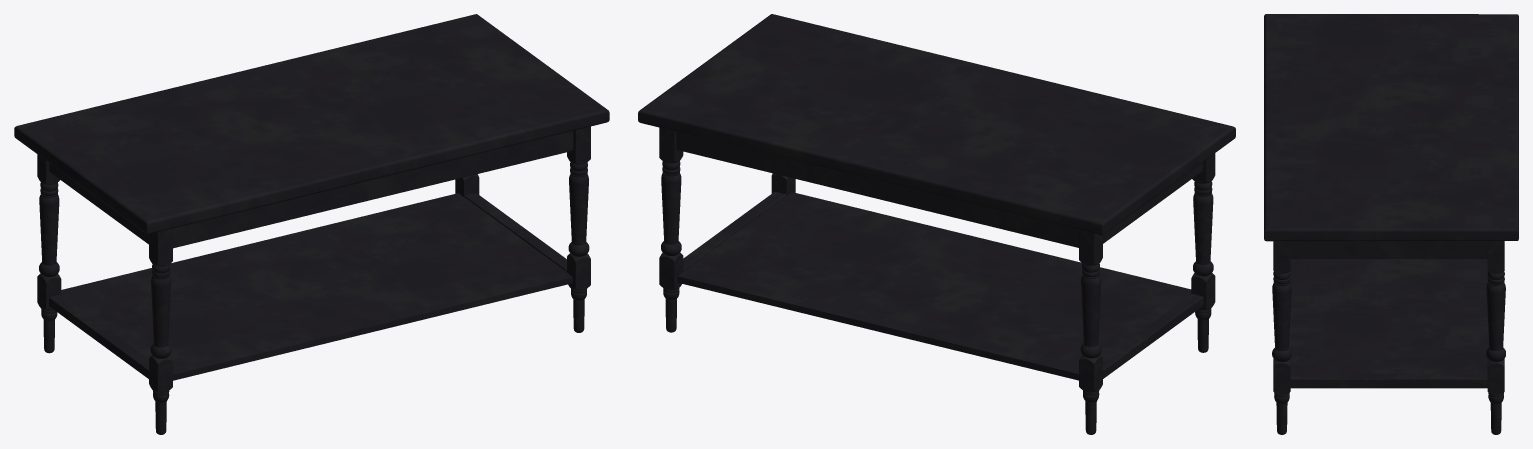
Rendered from abo-B07DBDWZ61.glb.
The picture shows the model from 3 angles, left to right: view 1: azimuth 30°, elevation 25°; view 2: azimuth 150°, elevation 25°; view 3: azimuth 270°, elevation 25°; orthographic projection. The views are drawn at different scales.
Size of the model in its own units: 1.11 by 0.51 by 0.55.
1 material, 1 textured.
